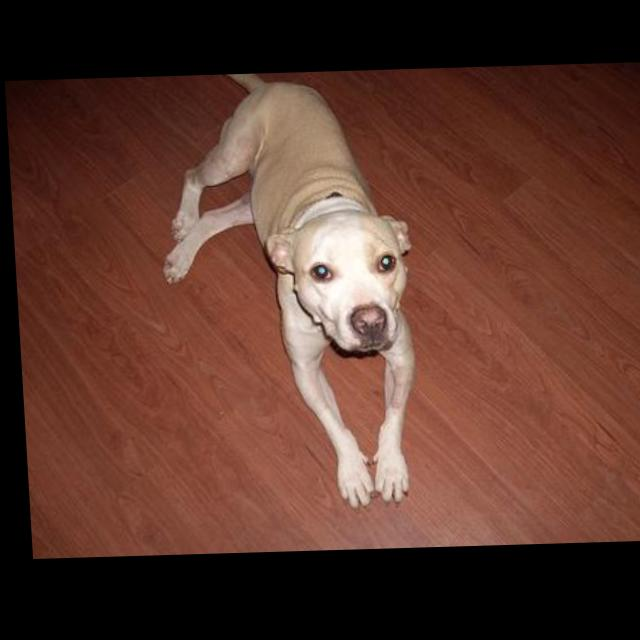amstaff: (149, 73, 421, 517)
